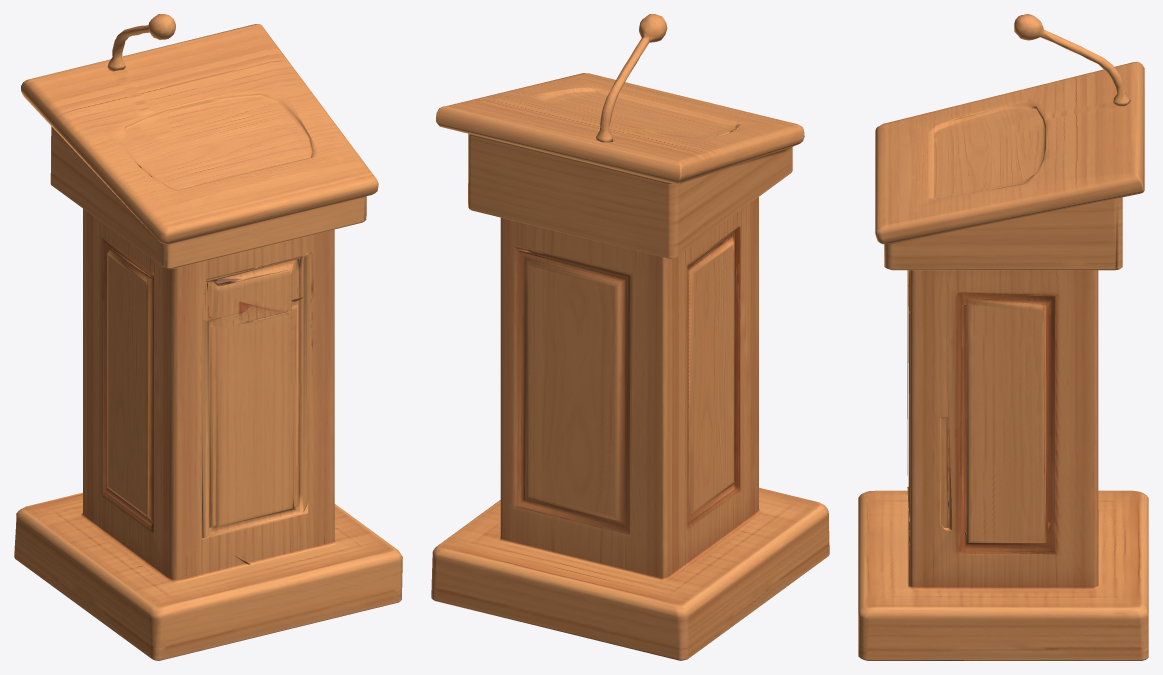
The model's file is auction_podium.glb.
3 renders of one model, left to right at view 1: azimuth 30°, elevation 25°; view 2: azimuth 150°, elevation 25°; view 3: azimuth 270°, elevation 25°, orthographic. The views are drawn at different scales.
Size of the model in its own units: 0.8845 by 1.9 by 0.8806.
Materials: 1 (1 with a texture image).
